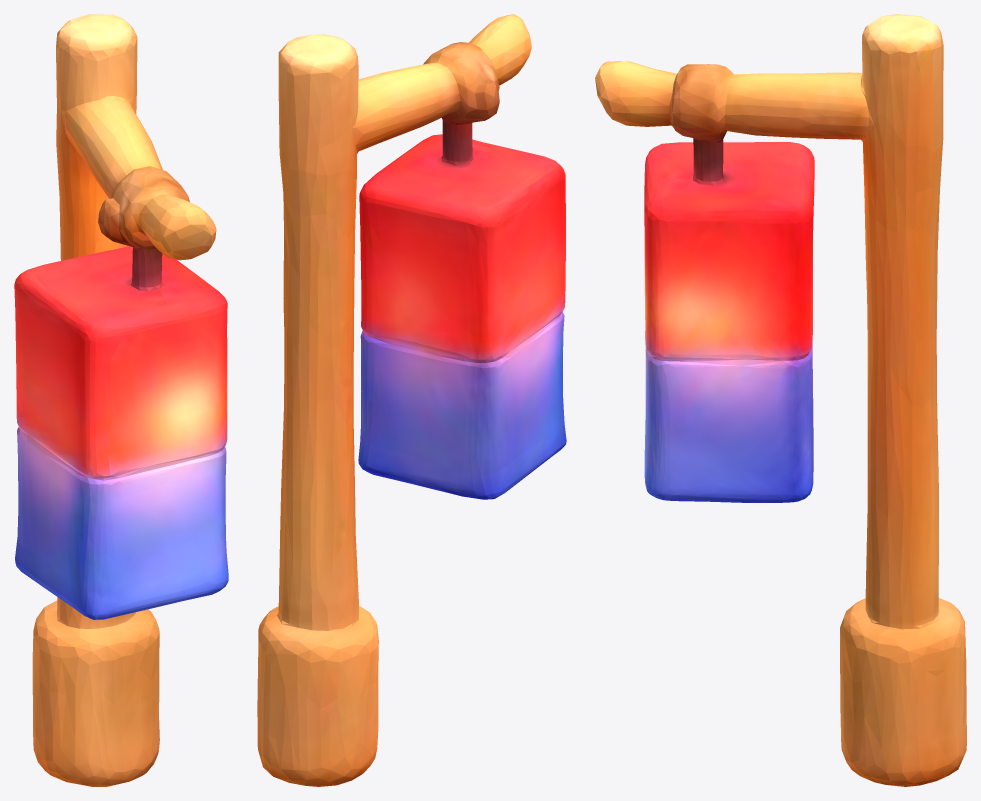
File: lantern_post.glb
The picture shows the model from 3 angles, left to right: view 1: azimuth 30°, elevation 25°; view 2: azimuth 150°, elevation 25°; view 3: azimuth 270°, elevation 25°; orthographic projection. The views are drawn at different scales.
Visible parts, largest first — view 1: tripo_mesh_c9a9dcbd-fe87-4063-90a9-d5d387a59b18; view 2: tripo_mesh_c9a9dcbd-fe87-4063-90a9-d5d387a59b18; view 3: tripo_mesh_c9a9dcbd-fe87-4063-90a9-d5d387a59b18.
Boxes of the visible parts, left/top/right/bottom form: tripo_mesh_c9a9dcbd-fe87-4063-90a9-d5d387a59b18: left=14, top=14, right=228, bottom=786; tripo_mesh_c9a9dcbd-fe87-4063-90a9-d5d387a59b18: left=257, top=14, right=566, bottom=786; tripo_mesh_c9a9dcbd-fe87-4063-90a9-d5d387a59b18: left=595, top=14, right=966, bottom=786.
Size of the model in its own units: 0.2697 by 1 by 0.4542.
1 material, 1 textured.
